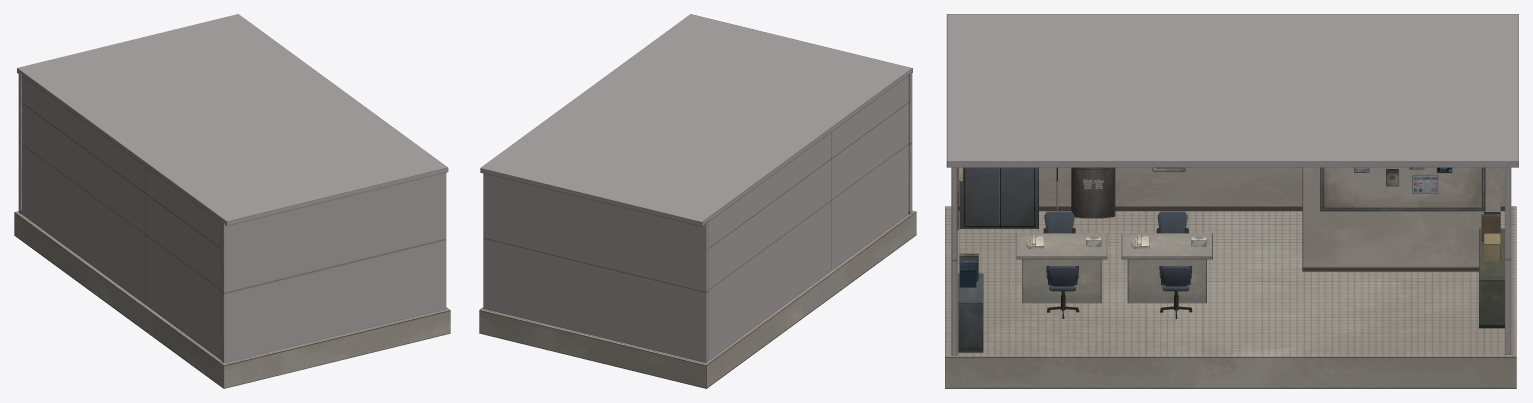
File: _room police05.fbx
The picture shows the model from 3 angles, left to right: view 1: azimuth 30°, elevation 25°; view 2: azimuth 150°, elevation 25°; view 3: azimuth 270°, elevation 25°; orthographic projection. The views are drawn at different scales.
Visible parts, largest first — view 1: Cube.235, Cube.043, Cube.042, Cube.028, Cube.044; view 2: Cube.235, Cube.044, Cube.042, Cube.028, Cube.043; view 3: Cube.235, Cube.028, Cube.253, Cube.042, Cube.250, Cube.255, Cube.002, Cube.238, Cube.007, Cube.252, Cube.249, Cube.043 (+6 smaller).
Boxes of the visible parts, x1=… form: Cube.235: x1=17, y1=14, x2=448, y2=225; Cube.043: x1=221, y1=173, x2=446, y2=363; Cube.042: x1=22, y1=76, x2=221, y2=360; Cube.028: x1=14, y1=211, x2=450, y2=388; Cube.044: x1=18, y1=72, x2=21, y2=213; Cube.235: x1=480, y1=14, x2=912, y2=226; Cube.044: x1=483, y1=173, x2=708, y2=362; Cube.042: x1=708, y1=76, x2=908, y2=360; Cube.028: x1=479, y1=210, x2=916, y2=388; Cube.043: x1=908, y1=72, x2=912, y2=214; Cube.235: x1=946, y1=14, x2=1518, y2=167; Cube.028: x1=945, y1=206, x2=1516, y2=388; Cube.253: x1=1302, y1=167, x2=1500, y2=271; Cube.042: x1=958, y1=167, x2=1504, y2=211; Cube.250: x1=1320, y1=167, x2=1485, y2=211; Cube.255: x1=1121, y1=233, x2=1212, y2=303; Cube.002: x1=1016, y1=233, x2=1107, y2=303; Cube.238: x1=959, y1=167, x2=1038, y2=228; Cube.007: x1=1071, y1=167, x2=1115, y2=218; Cube.252: x1=1479, y1=228, x2=1504, y2=328; Cube.249: x1=958, y1=273, x2=983, y2=352; Cube.043: x1=951, y1=167, x2=957, y2=355.
Bounding box in the file's own units: 265 × 185 × 425.
